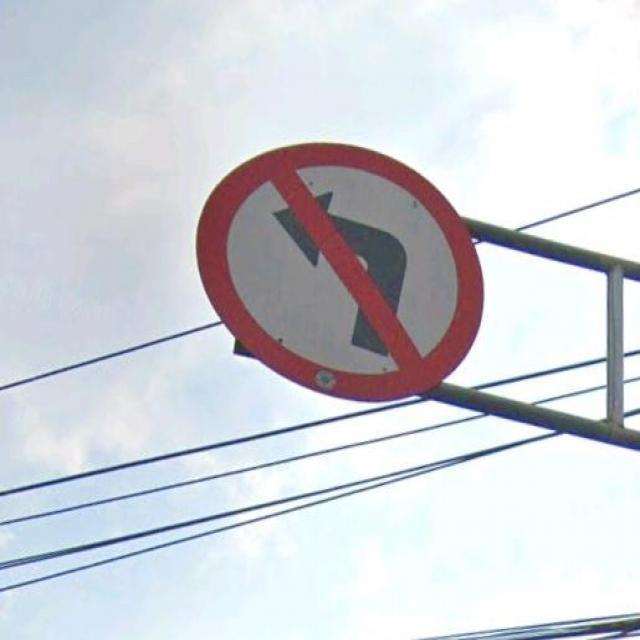traffic sign: (204, 150, 482, 397)
